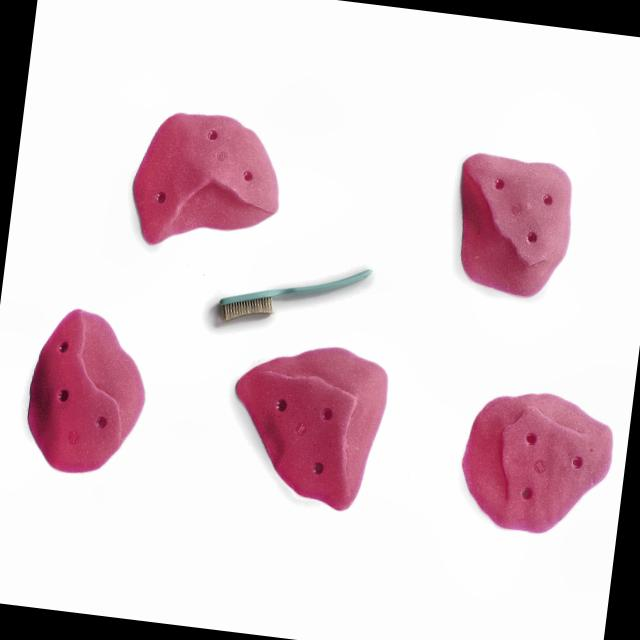Hold: (223, 340, 401, 510), (451, 381, 613, 545), (126, 109, 294, 255), (22, 302, 157, 472), (446, 147, 582, 300)
